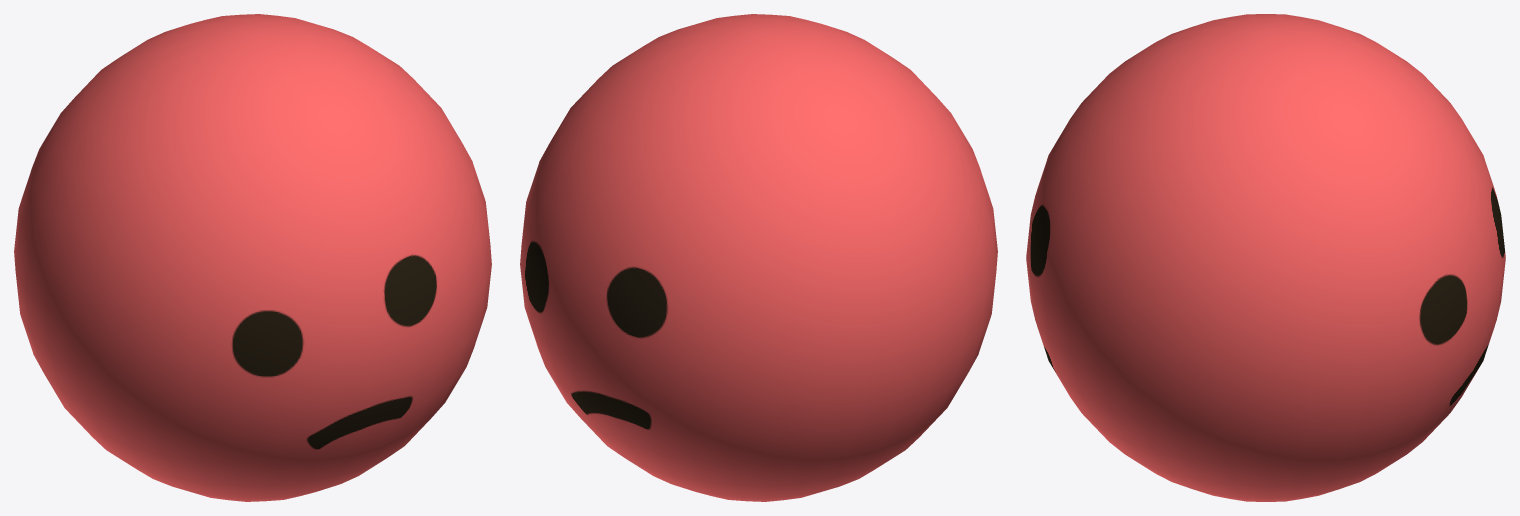
File: balltheme01_03_LOD0.fbx
3 views of the same model, side by side, from view 1: azimuth 30°, elevation 25°; view 2: azimuth 150°, elevation 25°; view 3: azimuth 270°, elevation 25° (orthographic).
Parts seen in each view (by area): view 1: balltheme01_03_LOD0; view 2: balltheme01_03_LOD0; view 3: balltheme01_03_LOD0.
Part boxes in pixels (x1=…): balltheme01_03_LOD0: x1=14, y1=14, x2=491, y2=501; balltheme01_03_LOD0: x1=520, y1=14, x2=997, y2=501; balltheme01_03_LOD0: x1=1026, y1=14, x2=1505, y2=501.
Bounding box in the file's own units: 5.5 × 5.67 × 5.5.
